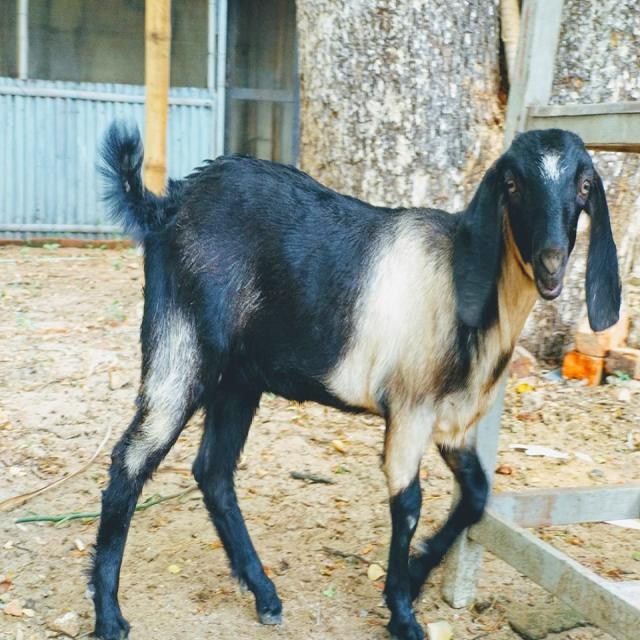Goat: (86, 116, 622, 638)
